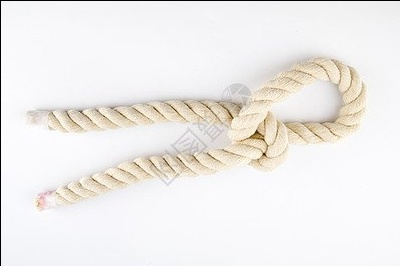9/可回收垃圾/绳子: (24, 57, 368, 211)
